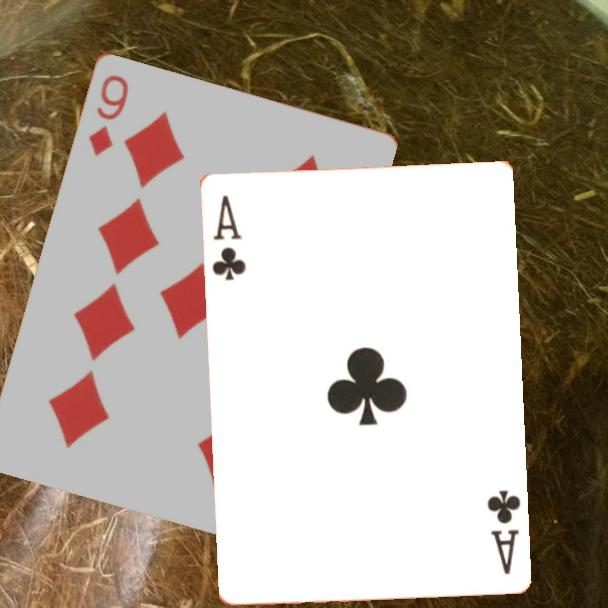c01: (208, 191, 248, 283), (483, 486, 523, 577)
d09: (84, 70, 131, 158)
